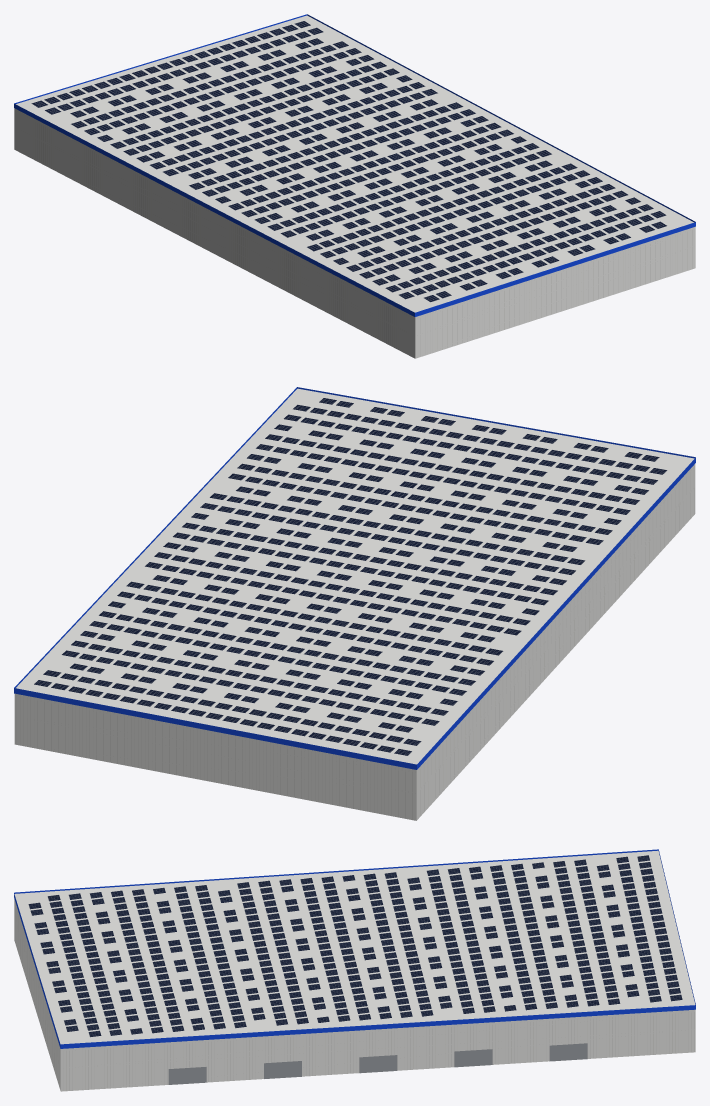
File: main.glb
3 renders of one model, top to bottom at view 1: azimuth 30°, elevation 25°; view 2: azimuth 150°, elevation 25°; view 3: azimuth 270°, elevation 25°, orthographic. The views are drawn at different scales.
Visible parts, largest first — view 1: Hall roof, Hall solar array, Hall L0 walls, Hall L1 walls, Hall eave band, Hall L2 walls; view 2: Hall roof, Hall solar array, Hall L0 walls, Hall L1 walls, Hall eave band, Hall L2 walls; view 3: Hall roof, Hall solar array, Hall L0 walls, Hall L1 walls, Hall eave band, Hall dock doors, Hall L2 walls.
Part boxes in pixels (x1,y1,x2,y2): Hall roof: [16, 15, 693, 312]; Hall solar array: [31, 21, 666, 302]; Hall L0 walls: [14, 127, 695, 358]; Hall L1 walls: [14, 110, 695, 336]; Hall eave band: [14, 14, 695, 316]; Hall L2 walls: [14, 108, 695, 319]; Hall roof: [16, 388, 694, 764]; Hall solar array: [34, 398, 667, 755]; Hall L0 walls: [14, 487, 695, 820]; Hall L1 walls: [14, 466, 695, 793]; Hall eave band: [14, 387, 695, 769]; Hall L2 walls: [14, 464, 695, 772]; Hall roof: [14, 850, 695, 1044]; Hall solar array: [28, 855, 682, 1037]; Hall L0 walls: [14, 918, 695, 1091]; Hall L1 walls: [14, 900, 695, 1068]; Hall eave band: [14, 849, 695, 1048]; Hall dock doors: [168, 1043, 587, 1084]; Hall L2 walls: [14, 899, 695, 1050].
Size of the model in its own units: 145 by 16.55 by 214.
6 materials, 2 textured.
